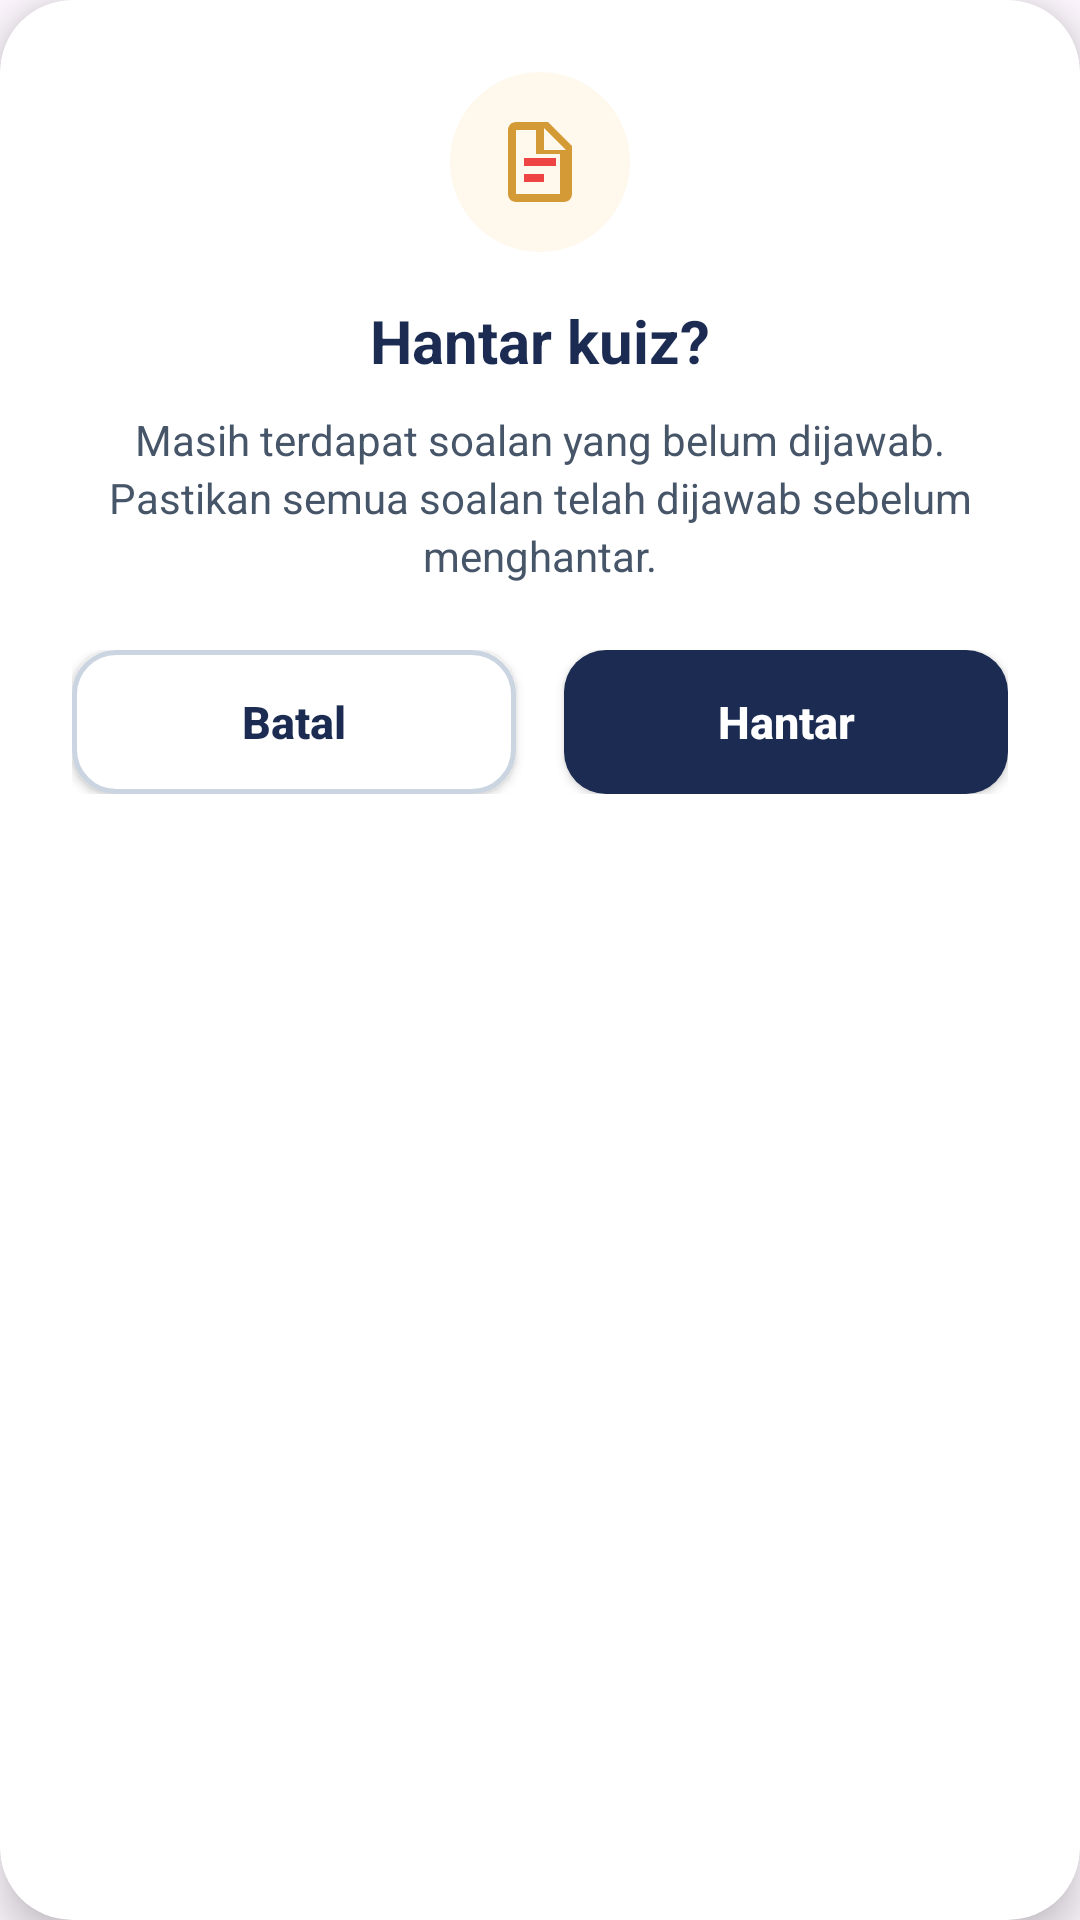

Locate icon controls on the screen. Image size 1080 x 1920, boxes as (x1=x1, y1=y1, x2=x2, y2=y2).
Memo: (x1=508, y1=122, x2=572, y2=202)
